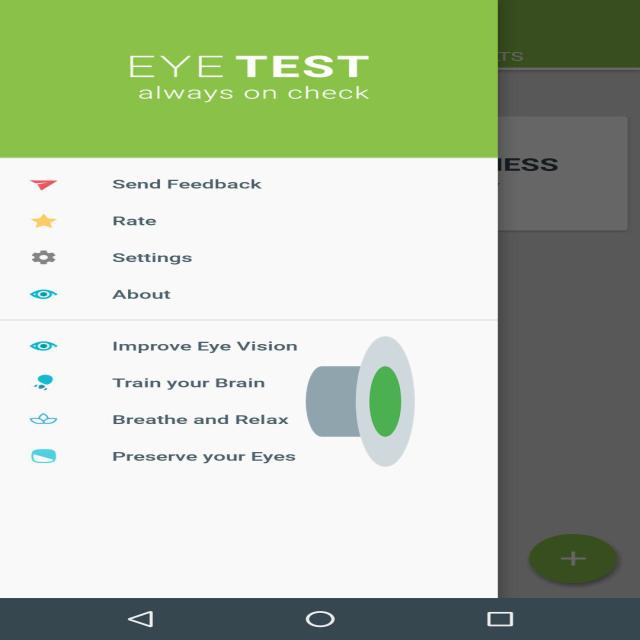social proof: (306, 281, 415, 522)
